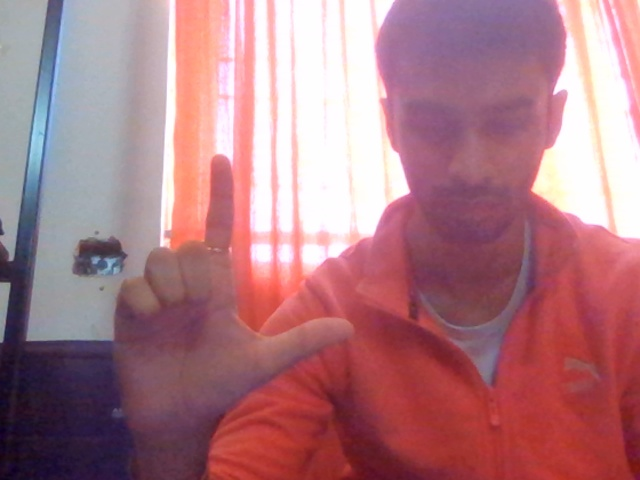L: (87, 152, 386, 472)
